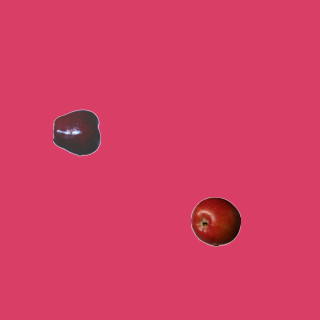Apple Braeburn: (190, 196, 240, 246)
Apple Red Delicious: (52, 107, 102, 157)
